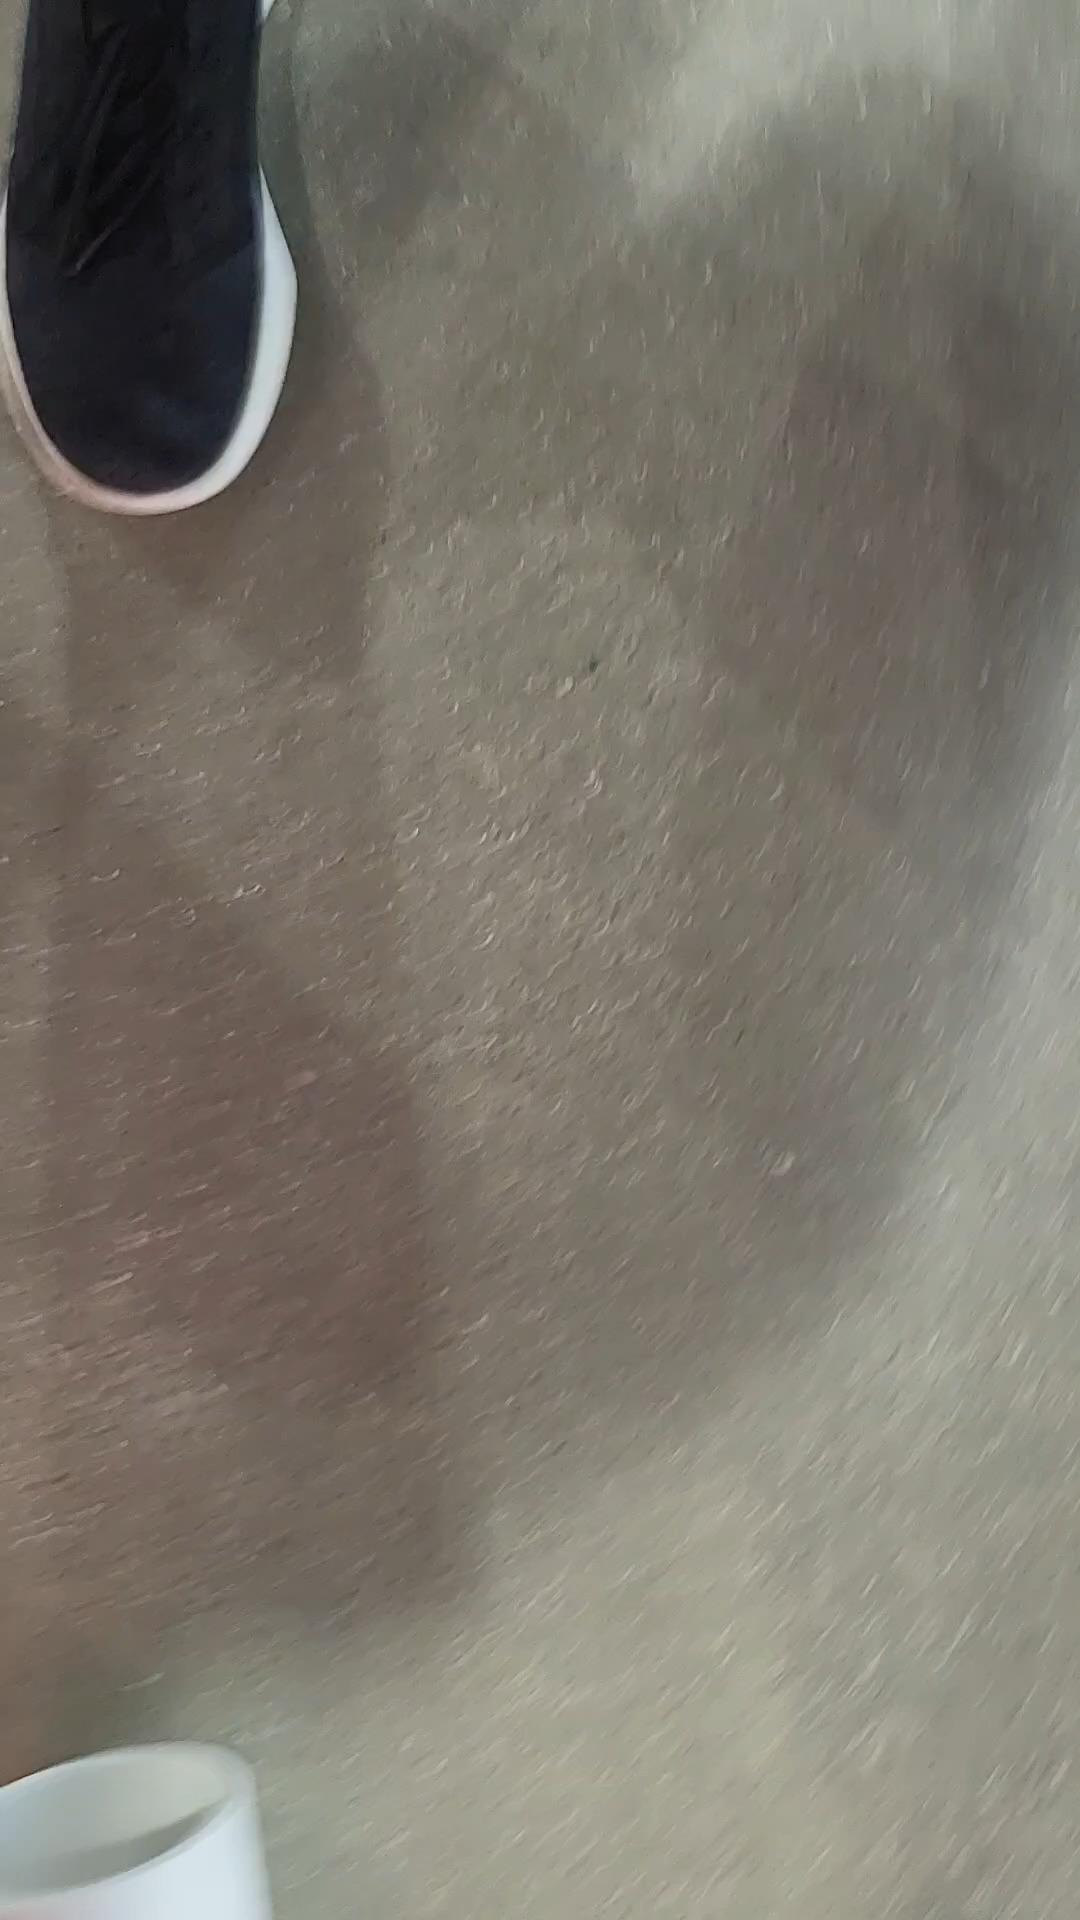coral: (0, 1742, 276, 1920)
